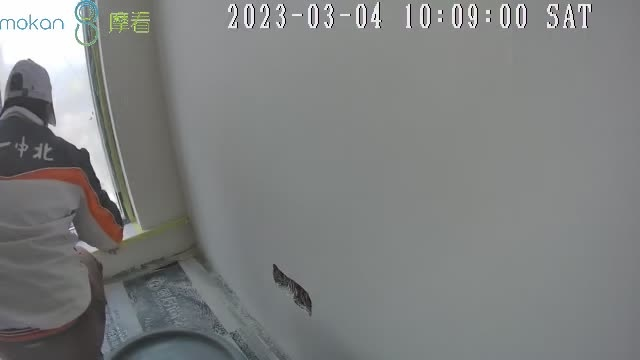people: (2, 58, 126, 360)
window: (1, 1, 128, 240)
